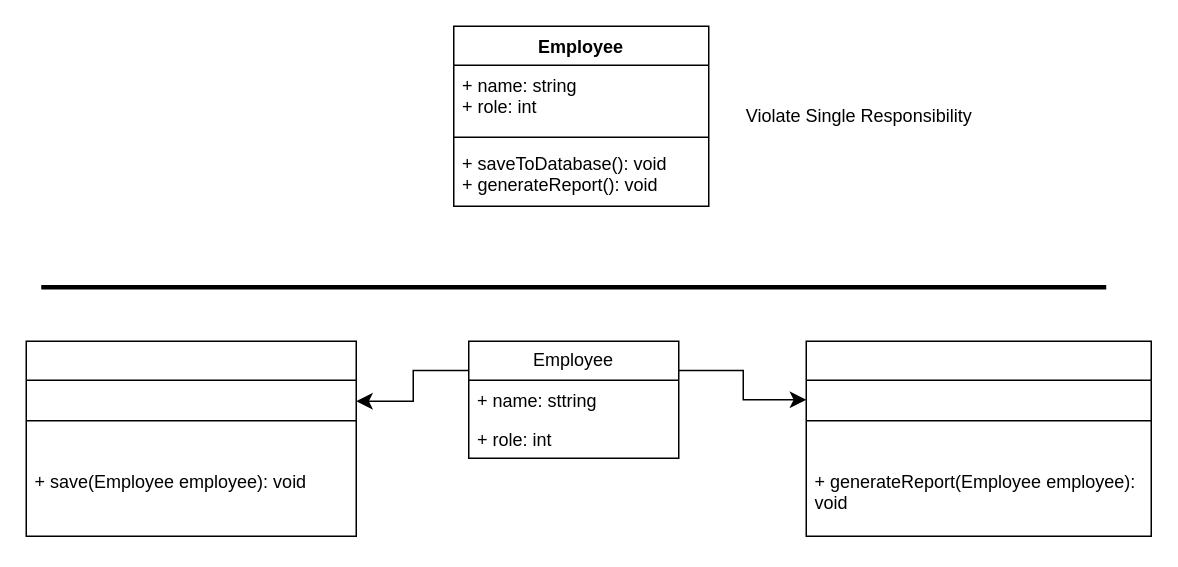
This 1178x567 diagram has some shape labels left out. Each missing label, with the box of its shape:
EmployeeReportGenerator: (805, 340, 1151, 536)
EmployeeRepository: (25, 340, 356, 536)
